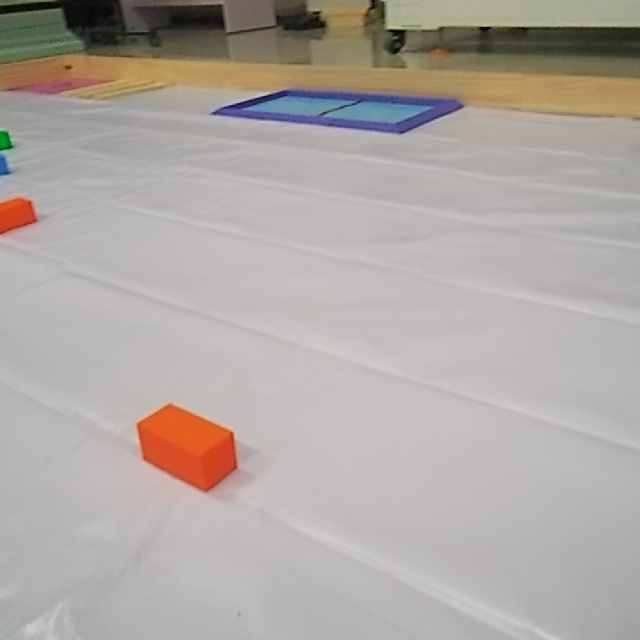orange: (133, 400, 242, 494), (0, 194, 42, 238)
zone2: (206, 80, 467, 136)
